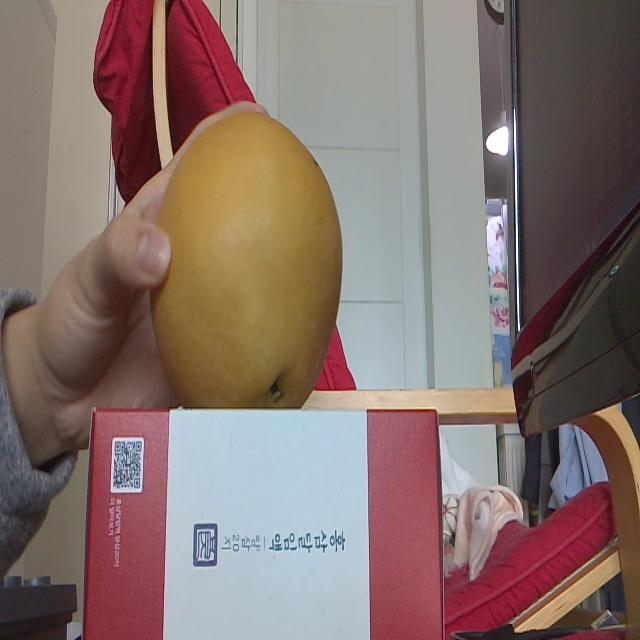pear: (149, 107, 342, 410)
